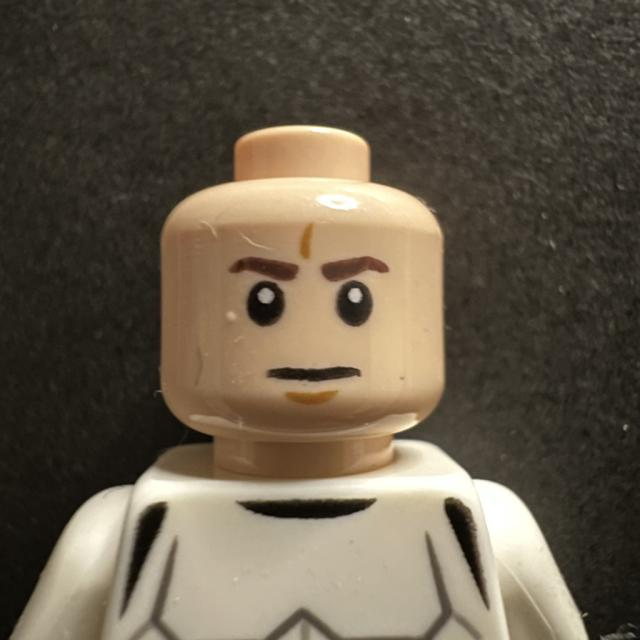lego: (158, 126, 477, 449)
